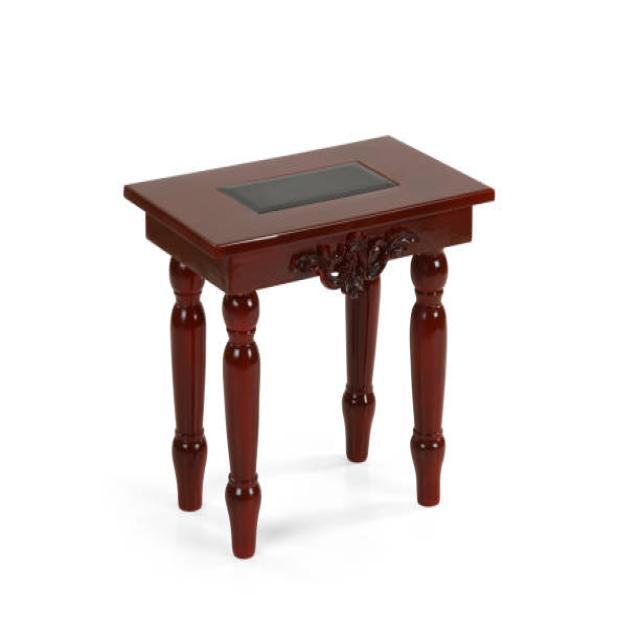table: (122, 132, 496, 558)
